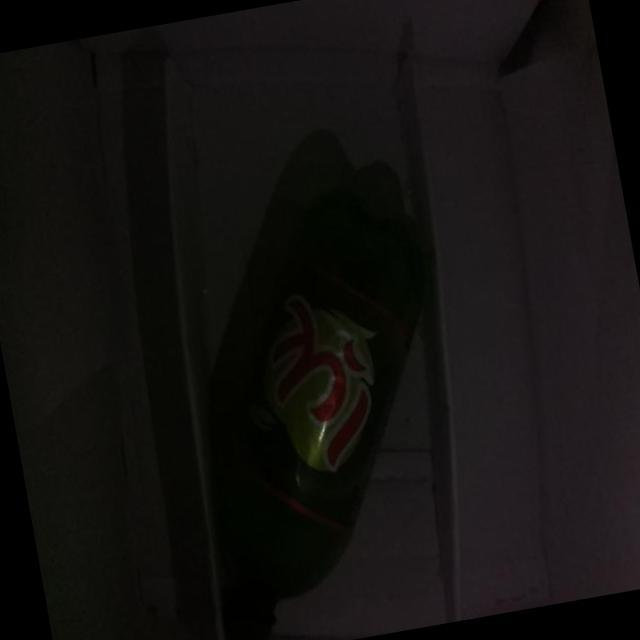good: (129, 102, 506, 640)
